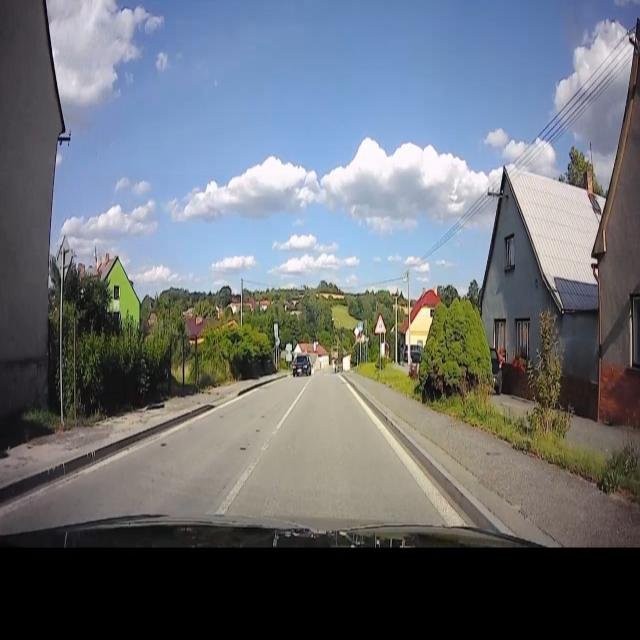Pedestrian crosswalk: (358, 321, 363, 331)
